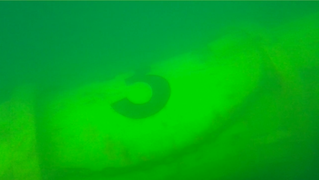3: (99, 64, 171, 119)
pipe: (1, 9, 318, 180)
